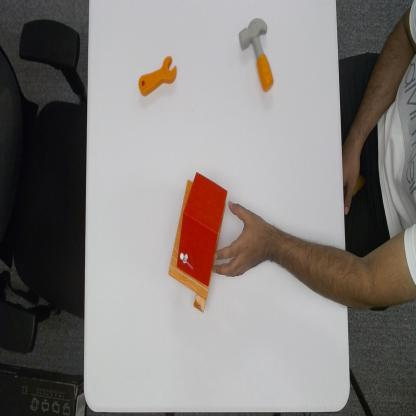Arm: (275, 223, 416, 314)
Hammer: (238, 17, 276, 93)
Hand: (212, 196, 274, 281)
House: (166, 169, 228, 313)
Screwdriver: (138, 51, 178, 100)
